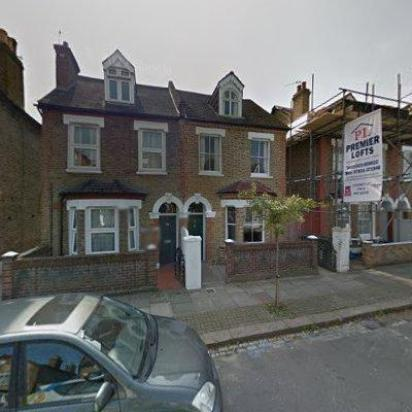stationary-car-onstreet: (0, 290, 226, 412)
